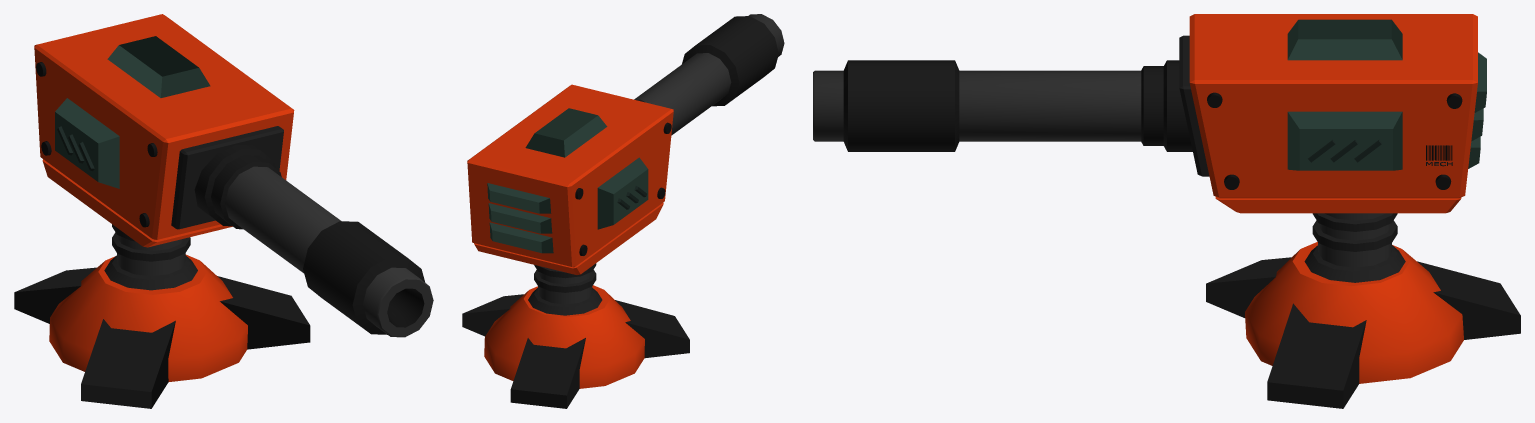
File: Turret_0I.fbx
3 renders of one model, left to right at view 1: azimuth 30°, elevation 25°; view 2: azimuth 150°, elevation 25°; view 3: azimuth 270°, elevation 25°, orthographic. The views are drawn at different scales.
Visible parts, largest first — view 1: Turret_0I; view 2: Turret_0I; view 3: Turret_0I.
Boxes of the visible parts, box(x1,y1,x2,y2) form: Turret_0I: box(14, 14, 433, 408); Turret_0I: box(462, 14, 784, 408); Turret_0I: box(813, 14, 1520, 408).
Size of the model in its own units: 0.4774 by 0.5285 by 1.09.
